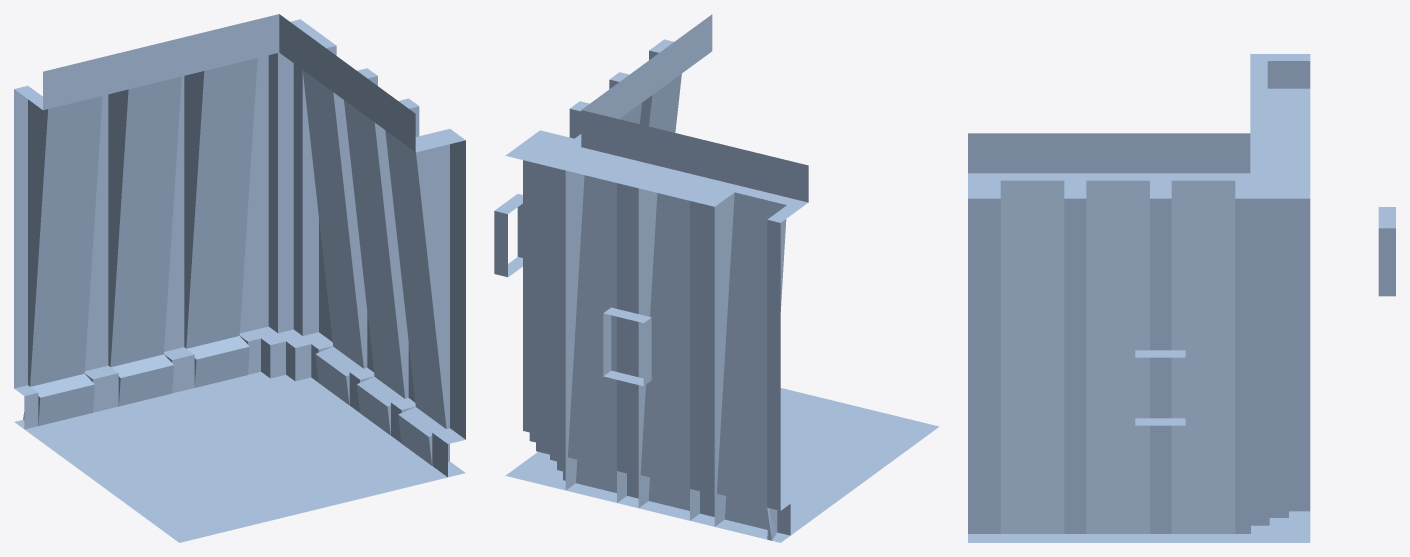
The model's file is ParedEsquina.gltf.
3 renders of one model, left to right at view 1: azimuth 30°, elevation 25°; view 2: azimuth 150°, elevation 25°; view 3: azimuth 270°, elevation 25°, orthographic. The views are drawn at different scales.
Visible parts, largest first — view 1: Pared esquina; view 2: Pared esquina; view 3: Pared esquina.
Boxes of the visible parts, x1=… form: Pared esquina: x1=14, y1=14, x2=465, y2=542; Pared esquina: x1=494, y1=14, x2=939, y2=542; Pared esquina: x1=968, y1=54, x2=1395, y2=542.
Size of the model in its own units: 2 by 2 by 2.
